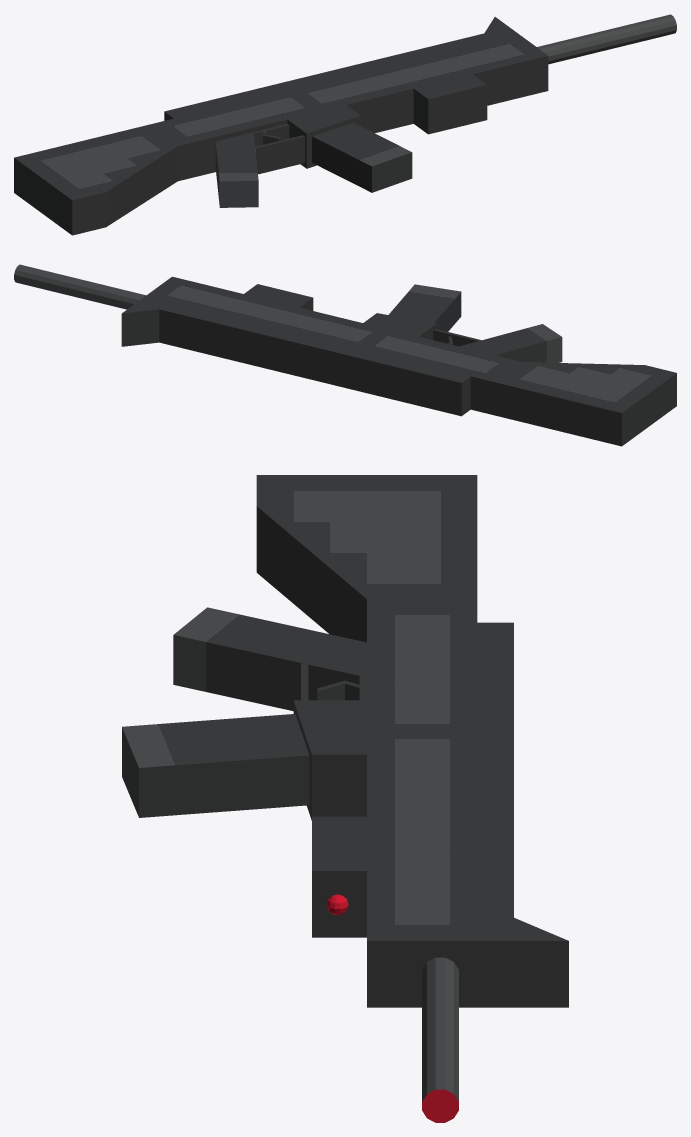
Rendered from rifle.obj.
The picture shows the model from 3 angles, top to bottom: view 1: azimuth 30°, elevation 25°; view 2: azimuth 150°, elevation 25°; view 3: azimuth 270°, elevation 25°; orthographic projection. The views are drawn at different scales.
Parts seen in each view (by area): view 1: cuboid, magazine, cylinder; view 2: cuboid, cylinder, magazine; view 3: cuboid, magazine, cylinder.
Part boxes in pixels (<box>): cuboid: <box>14,17,548,235</box>; magazine: <box>312,122,412,192</box>; cylinder: <box>537,14,676,64</box>; cuboid: <box>121,276,676,446</box>; cylinder: <box>14,264,145,309</box>; magazine: <box>389,284,461,331</box>; cuboid: <box>173,475,568,1007</box>; magazine: <box>122,714,309,817</box>; cylinder: <box>422,957,458,1122</box>.
Size of the model in its own units: 1.2 by 0.0625 by 0.3804.
1 material, 1 textured.
